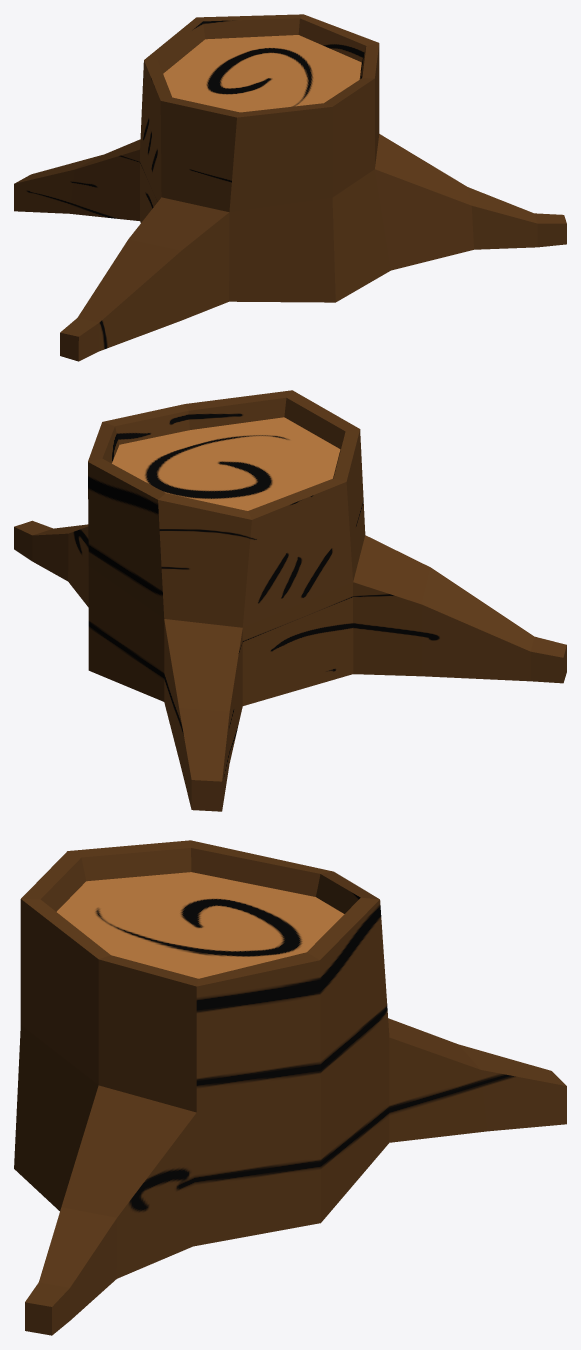
Rendered from SM_TreeStump_Small.fbx.
3 views of the same model, one above another, from view 1: azimuth 30°, elevation 25°; view 2: azimuth 150°, elevation 25°; view 3: azimuth 270°, elevation 25° (orthographic). The views are drawn at different scales.
Parts seen in each view (by area): view 1: SM_TreeStump_Small; view 2: SM_TreeStump_Small; view 3: SM_TreeStump_Small.
Boxes of the visible parts, <box> form: SM_TreeStump_Small: <box>14,14,566,361</box>; SM_TreeStump_Small: <box>14,390,566,811</box>; SM_TreeStump_Small: <box>14,840,566,1335</box>.
Size of the model in its own units: 8.86 by 6.08 by 3.59.
